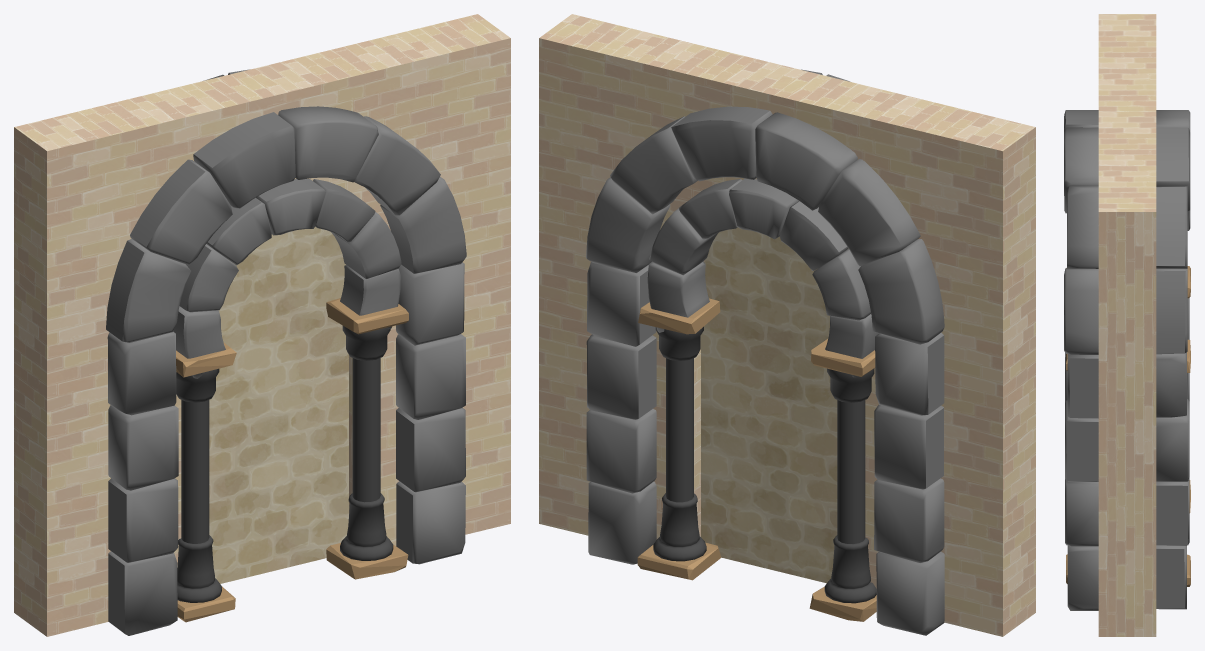
Rendered from SM_wall_arch_02.fbx.
The picture shows the model from 3 angles, left to right: view 1: azimuth 30°, elevation 25°; view 2: azimuth 150°, elevation 25°; view 3: azimuth 270°, elevation 25°; orthographic projection. The views are drawn at different scales.
Parts seen in each view (by area): view 1: Plane190; view 2: Plane190; view 3: Plane190.
Boxes of the visible parts, x1,y1,x2,y2 form: Plane190: (14, 14, 510, 636); Plane190: (539, 14, 1035, 636); Plane190: (1064, 14, 1190, 636).
Size of the model in its own units: 170 by 171 by 45.99.
